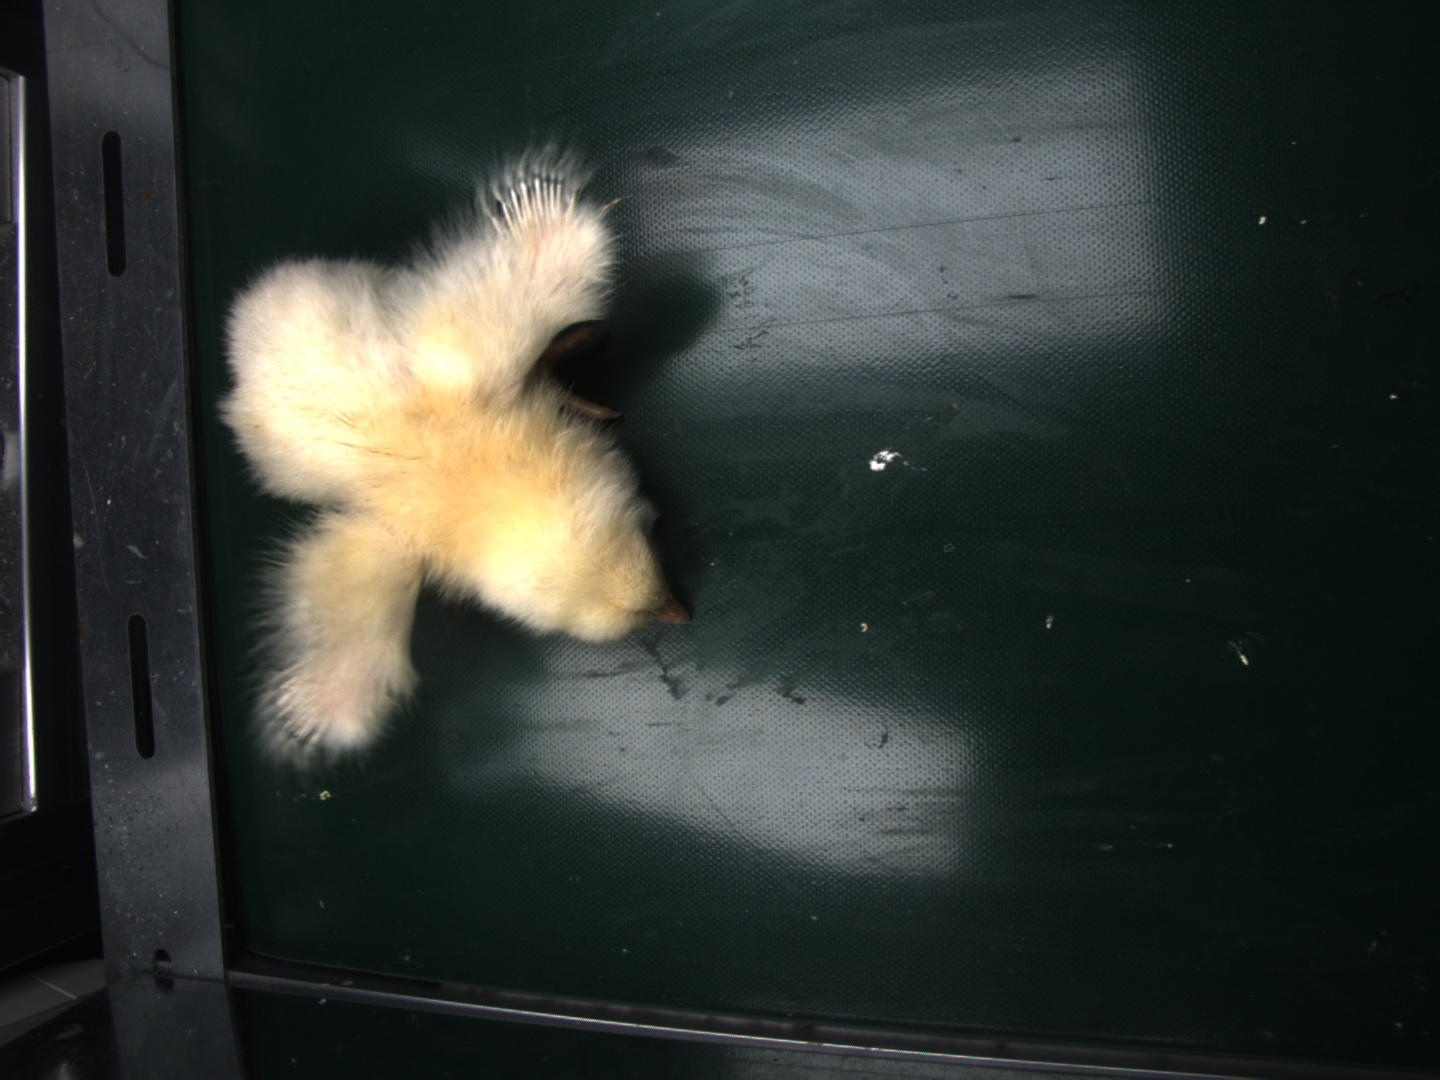male: (491, 164, 582, 241)
